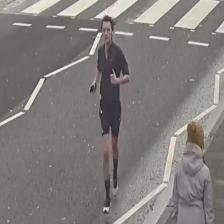person: (89, 14, 129, 212), (172, 121, 215, 224)
